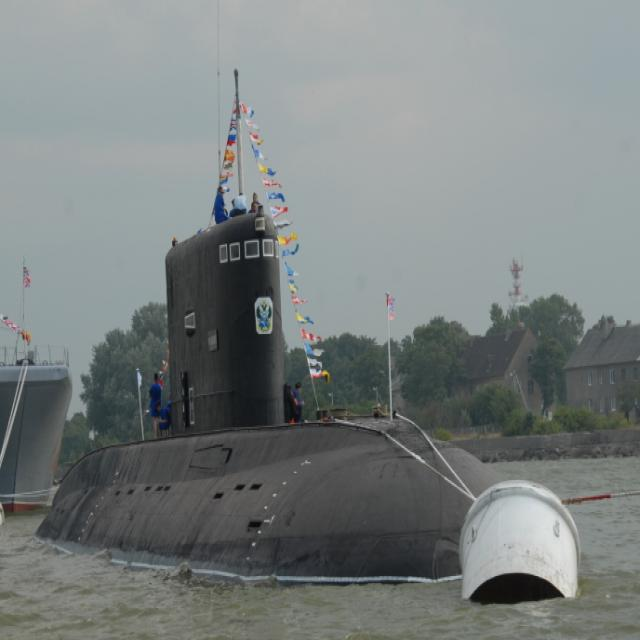submarine: (45, 207, 519, 570)
